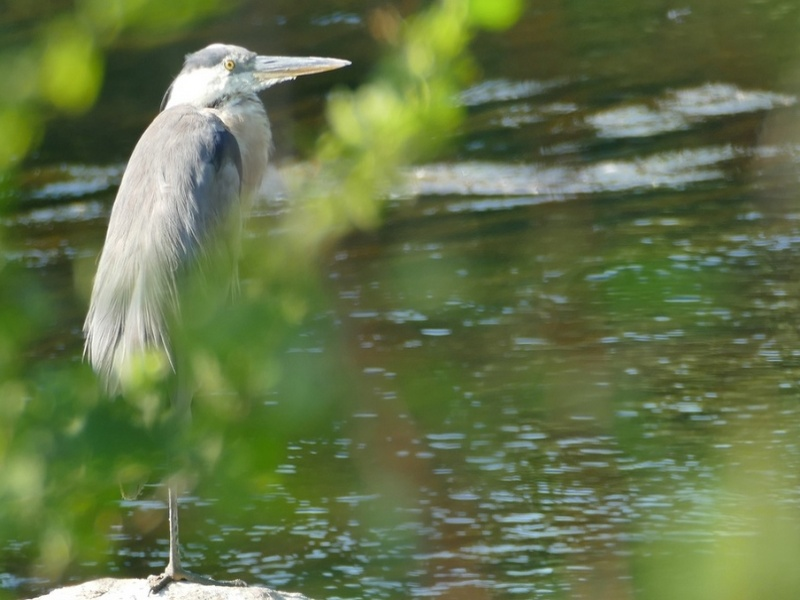heron: (78, 40, 360, 590)
